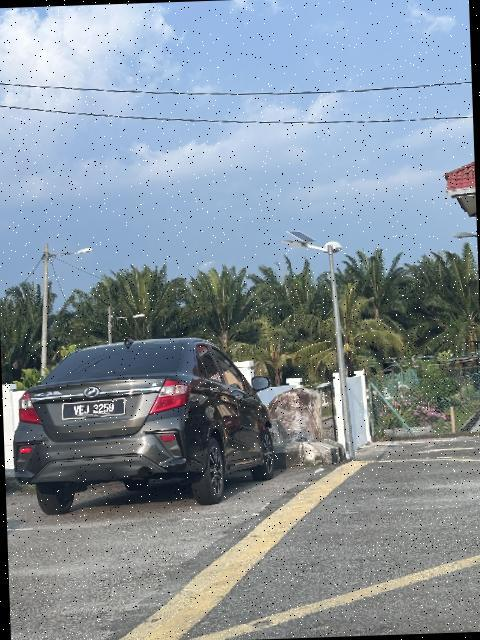License_Plate: (62, 398, 129, 422)
car: (10, 336, 279, 516)
vej3259: (62, 398, 129, 422)
